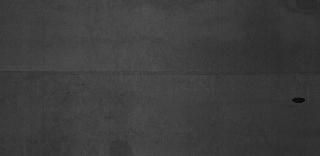punching hole: (291, 96, 307, 106)
silk spot: (31, 87, 139, 153)
welding line: (2, 65, 316, 79)
